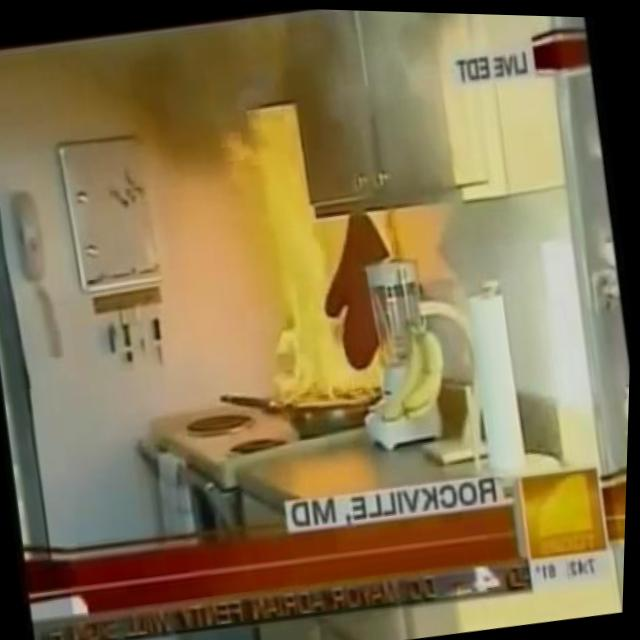fire: (244, 204, 418, 419), (204, 103, 314, 238)
